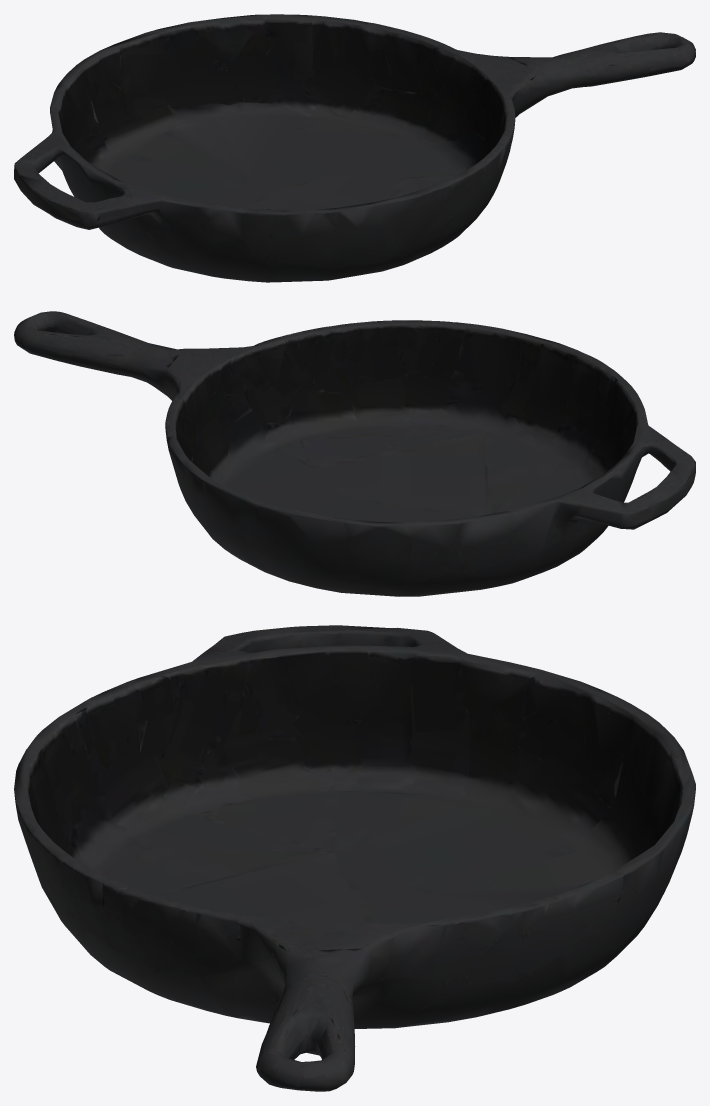
Rendered from pan.glb.
The picture shows the model from 3 angles, top to bottom: view 1: azimuth 30°, elevation 25°; view 2: azimuth 150°, elevation 25°; view 3: azimuth 270°, elevation 25°; orthographic projection. The views are drawn at different scales.
Bounding box in the file's own units: 1.9 × 0.2478 × 1.21.
Materials: 1 (1 with a texture image).
